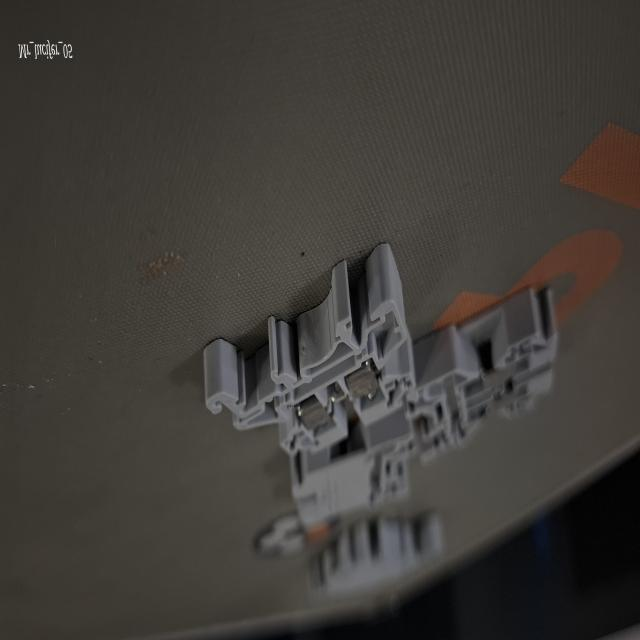Pass: (195, 221, 428, 574)
